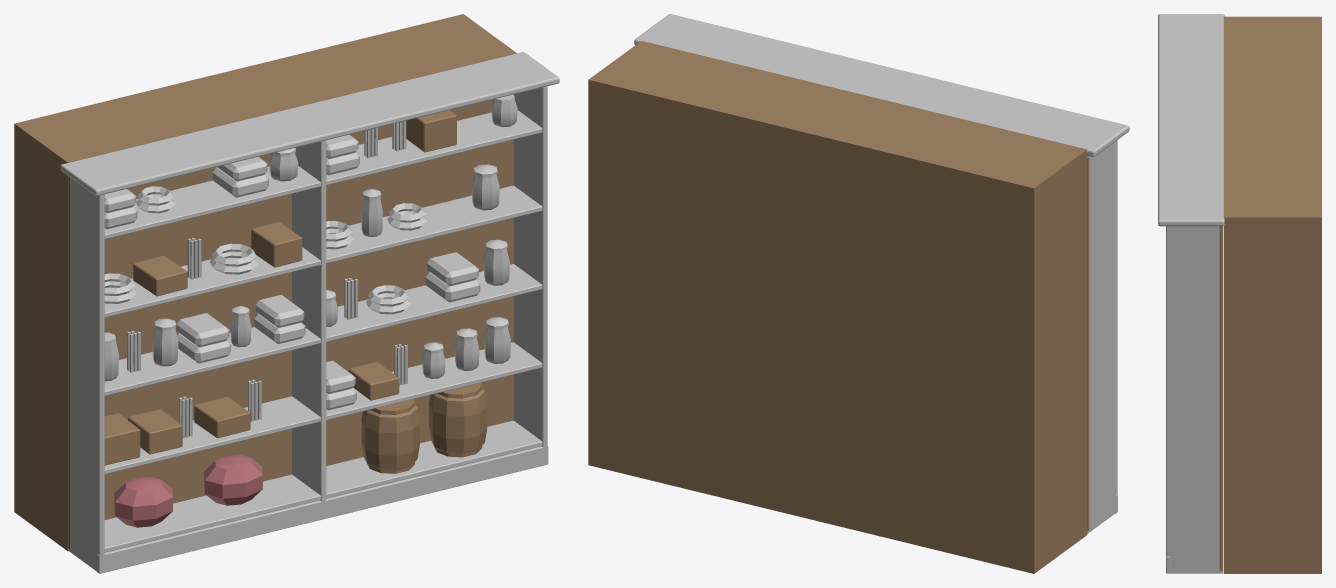
File: furn_shelves_goods.glb
3 views of the same model, side by side, from view 1: azimuth 30°, elevation 25°; view 2: azimuth 150°, elevation 25°; view 3: azimuth 270°, elevation 25° (orthographic). The views are drawn at different scales.
Parts seen in each view (by area): view 1: furn_shelves_goods; view 2: furn_shelves_goods; view 3: furn_shelves_goods.
Boxes of the visible parts, box(x1,y1,x2,y2) form: furn_shelves_goods: box(14, 14, 559, 573); furn_shelves_goods: box(588, 14, 1129, 573); furn_shelves_goods: box(1158, 14, 1321, 573).
Bounding box in the file's own units: 3.1 × 2.48 × 1.03.
